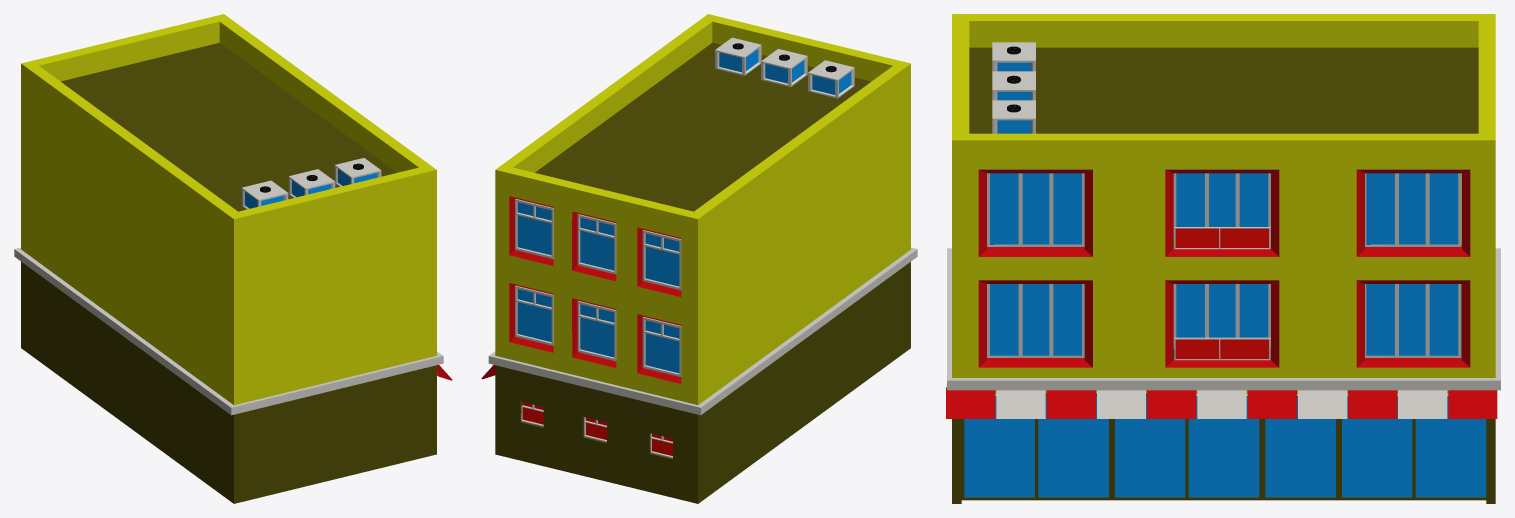
The model's file is Shop2.fbx.
The picture shows the model from 3 angles, left to right: view 1: azimuth 30°, elevation 25°; view 2: azimuth 150°, elevation 25°; view 3: azimuth 270°, elevation 25°; orthographic projection. The views are drawn at different scales.
Parts seen in each view (by area): view 1: shop2; view 2: shop2; view 3: shop2.
Boxes of the visible parts, left/top/right/bottom form: shop2: left=14, top=14, right=452, bottom=503; shop2: left=481, top=14, right=917, bottom=503; shop2: left=946, top=14, right=1500, bottom=503.
Bounding box in the file's own units: 7.91 × 9.74 × 13.47.
